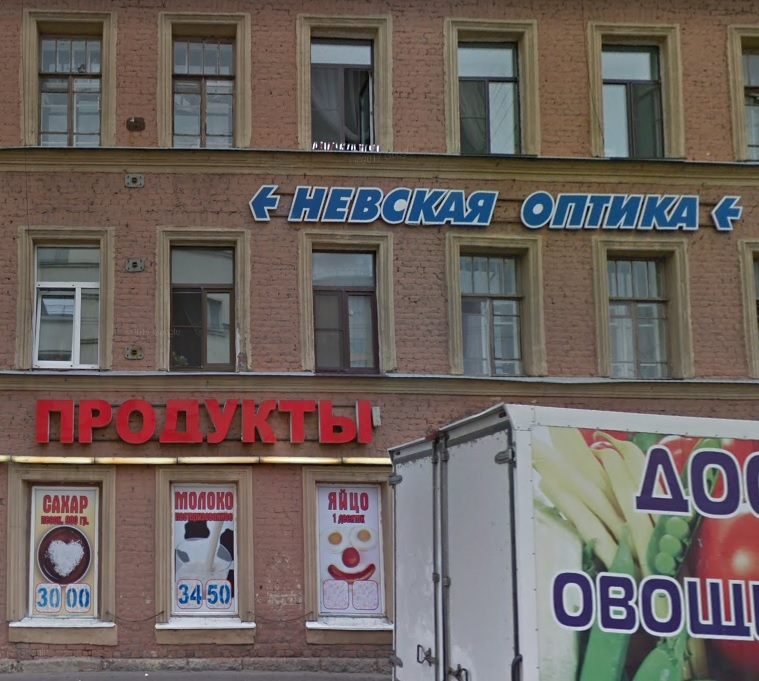signboard: (250, 184, 744, 231), (35, 397, 371, 444)
window: (315, 481, 386, 619), (29, 484, 101, 618), (28, 239, 101, 371), (163, 244, 236, 373), (171, 482, 237, 614), (606, 253, 673, 379), (600, 45, 670, 158), (463, 251, 525, 378), (458, 35, 523, 156), (314, 250, 376, 372), (313, 38, 372, 154), (41, 37, 101, 146), (174, 40, 234, 148)
